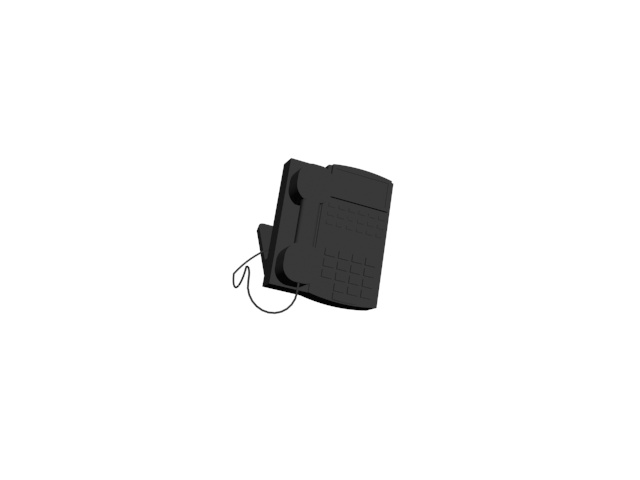phone: (233, 153, 400, 320)
